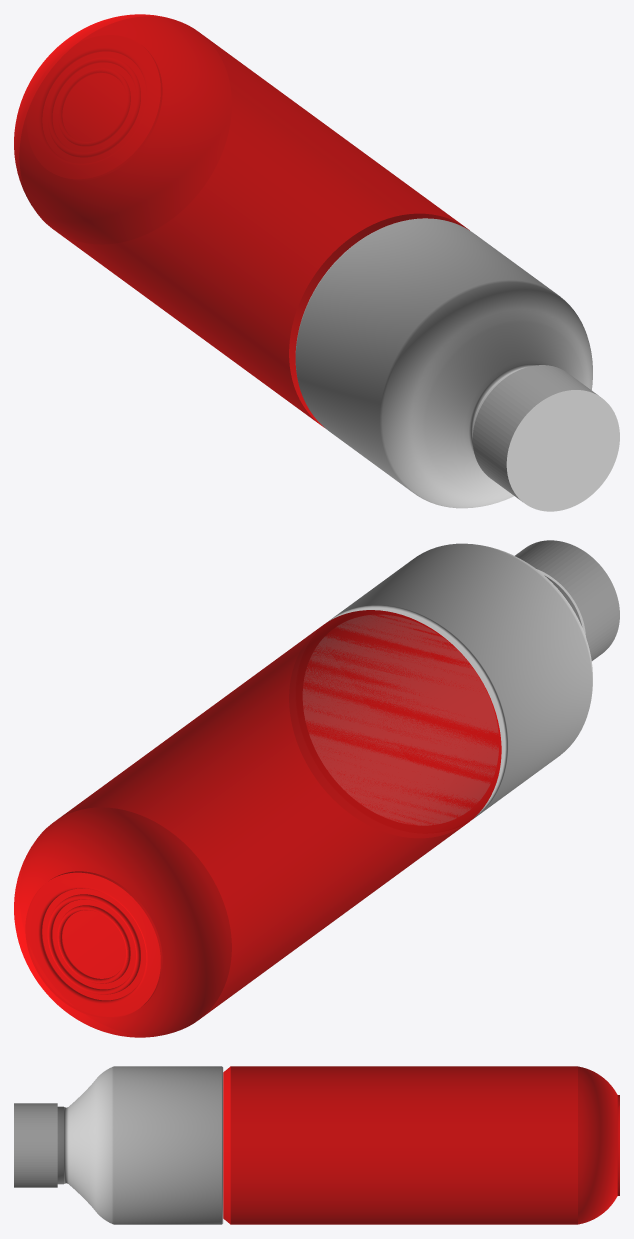
Rendered from model_scale.obj.
The picture shows the model from 3 angles, top to bottom: view 1: azimuth 30°, elevation 25°; view 2: azimuth 150°, elevation 25°; view 3: azimuth 270°, elevation 25°; orthographic projection. The views are drawn at different scales.
Parts seen in each view (by area): view 1: mesh1_mesh1-geometry, mesh6_mesh6-geometry, mesh5_mesh5-geometry; view 2: mesh1_mesh1-geometry, mesh6_mesh6-geometry, mesh5_mesh5-geometry; view 3: mesh1_mesh1-geometry, mesh6_mesh6-geometry, mesh5_mesh5-geometry.
Boxes of the visible parts, x1,y1,x2,y2 form: mesh1_mesh1-geometry: [14, 14, 469, 428]; mesh6_mesh6-geometry: [295, 218, 592, 508]; mesh5_mesh5-geometry: [472, 365, 619, 511]; mesh1_mesh1-geometry: [14, 610, 501, 1037]; mesh6_mesh6-geometry: [303, 543, 592, 825]; mesh5_mesh5-geometry: [515, 540, 619, 660]; mesh1_mesh1-geometry: [223, 1066, 619, 1224]; mesh6_mesh6-geometry: [57, 1066, 223, 1224]; mesh5_mesh5-geometry: [14, 1103, 57, 1187].
Bounding box in the file's own units: 0.0417 × 0.0417 × 0.1599.
